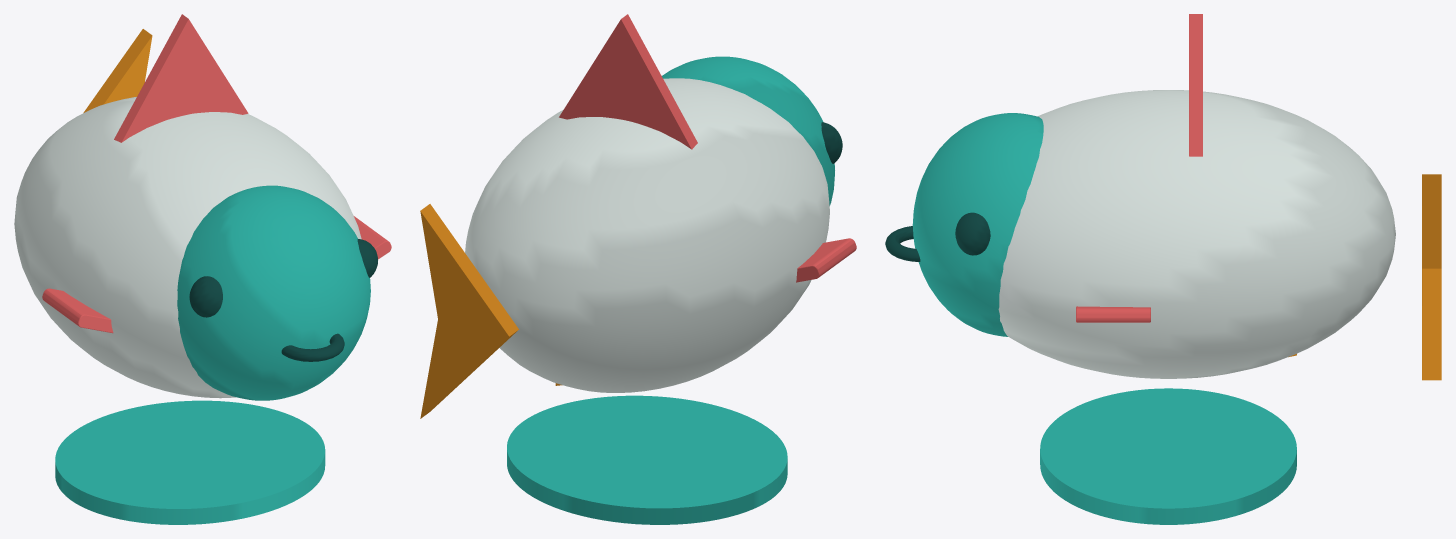
The model's file is 0413_微生物图鉴_幽门螺杆菌.glb.
3 renders of one model, left to right at view 1: azimuth 30°, elevation 25°; view 2: azimuth 150°, elevation 25°; view 3: azimuth 270°, elevation 25°, orthographic. The views are drawn at different scales.
Parts seen in each view (by area): view 1: card_0413; view 2: card_0413; view 3: card_0413.
Boxes of the visible parts, x1,y1,x2,y2 form: card_0413: (14,14,391,524); card_0413: (420,14,856,524); card_0413: (885,14,1441,524).
Size of the model in its own units: 0.7415 by 1 by 1.11.
